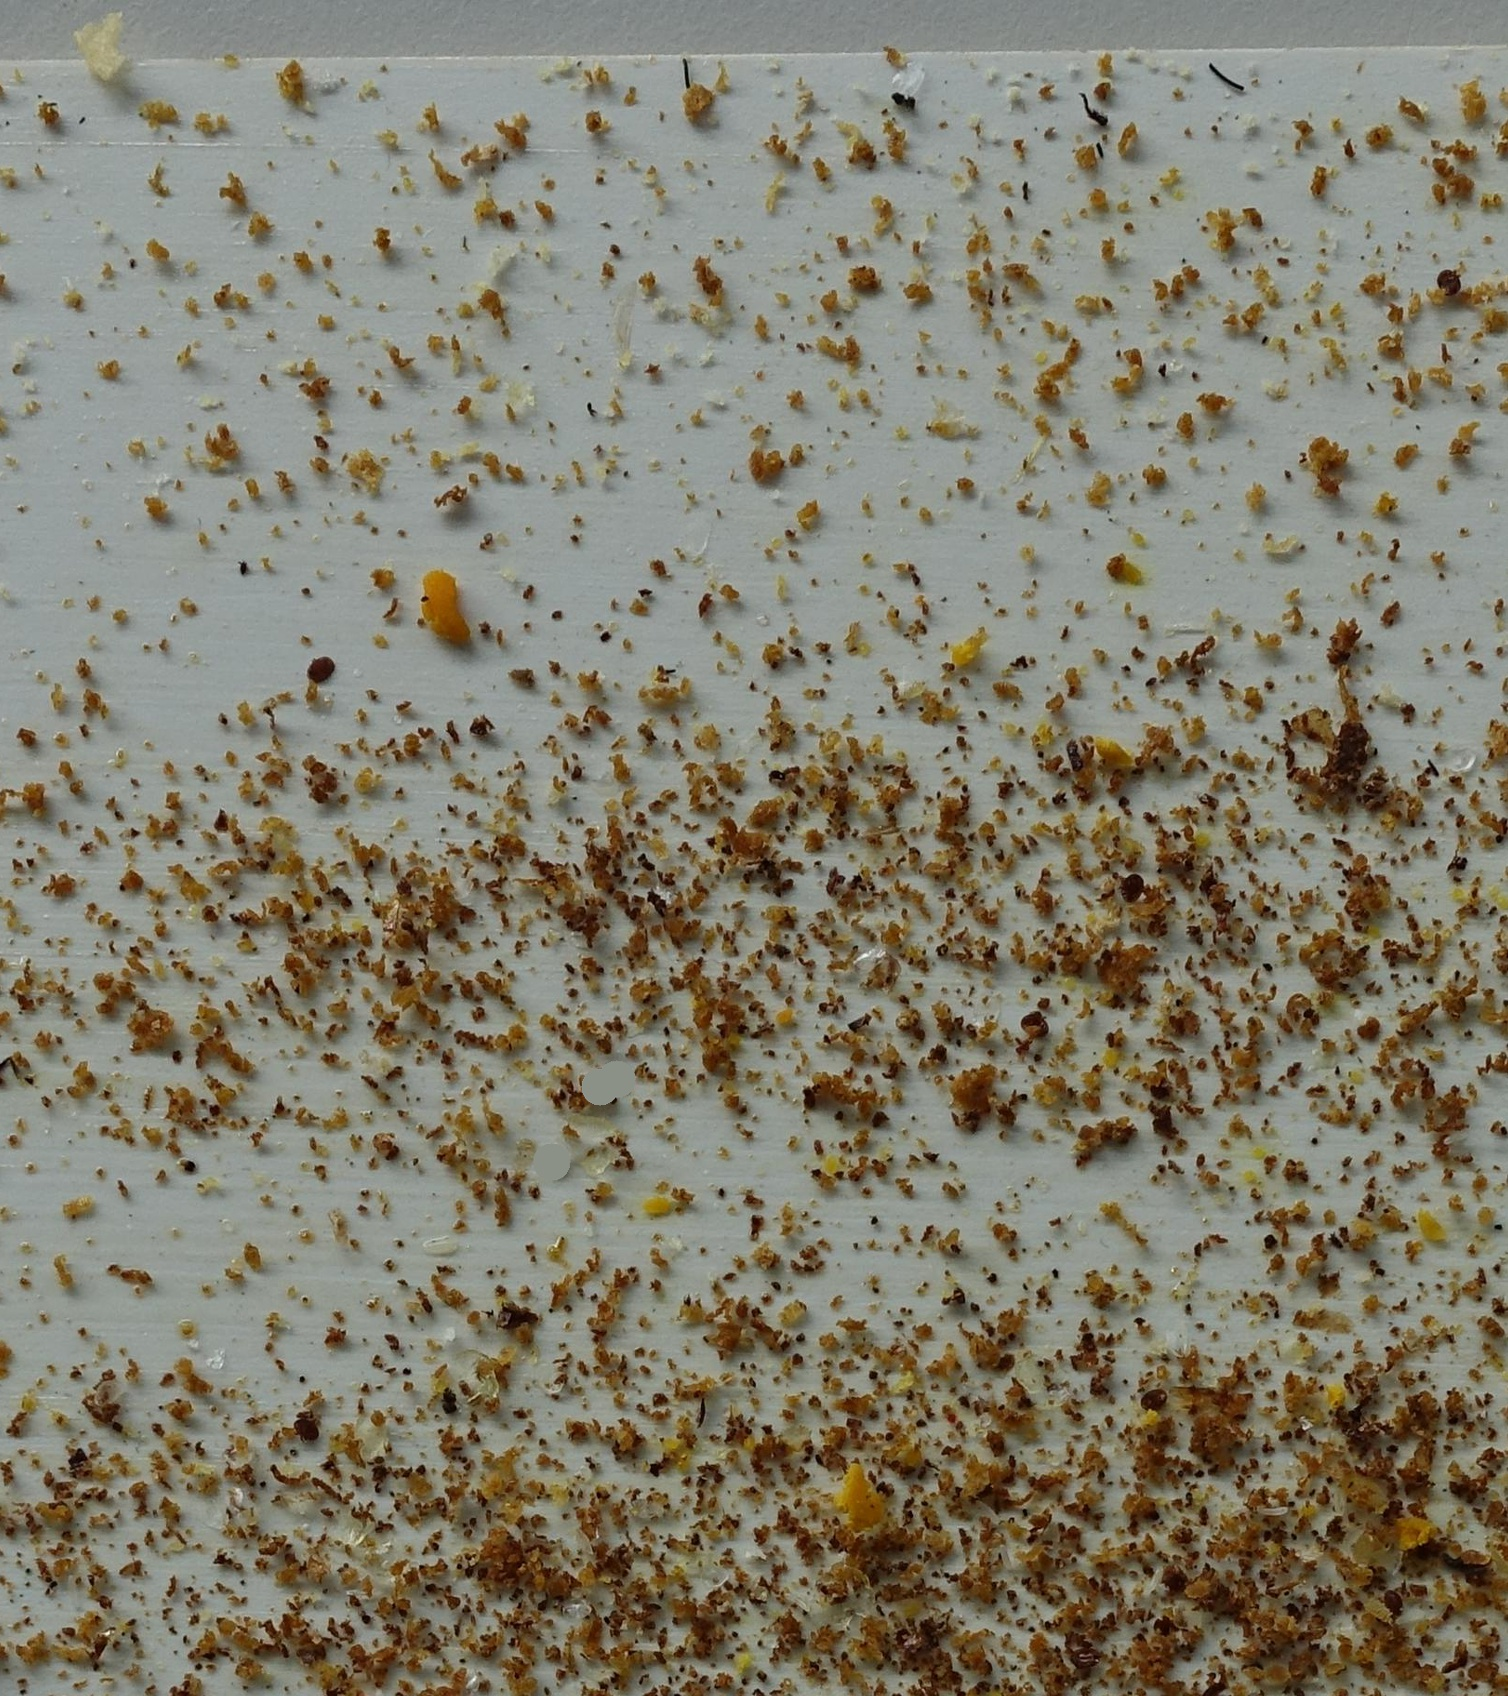Varroa: (1111, 873, 1143, 906), (1437, 266, 1469, 297), (1378, 1584, 1410, 1613), (1023, 1012, 1049, 1037), (295, 1412, 322, 1435), (311, 654, 335, 677), (1148, 1396, 1160, 1411)
